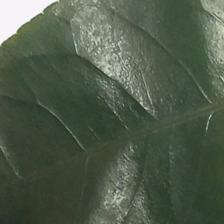healthy: (7, 11, 216, 221)
